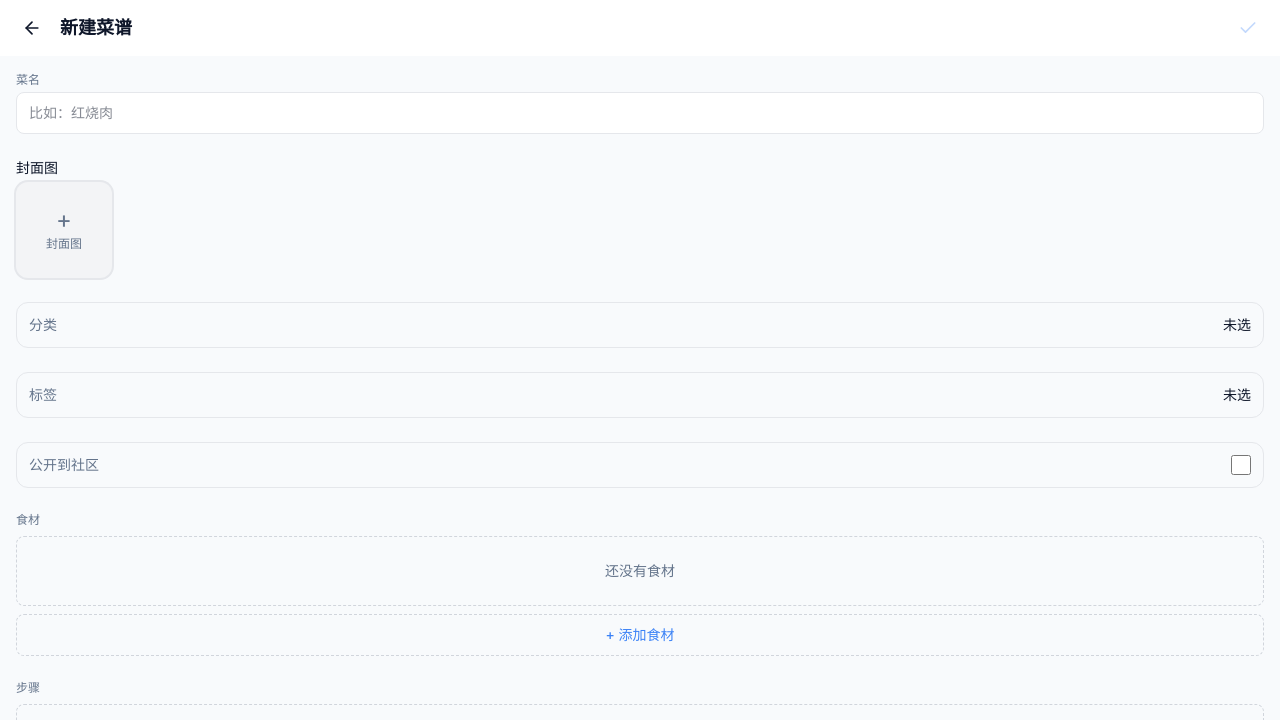
Test: RecipeEdit › 新建模式：菜名空时保存按钮不可点
expect the button with test id "save" is disabled: met, box [1232,12,1264,44]
Type "红烧肉" into the field with test id "name" at (640, 113), box [16,92,1264,134]
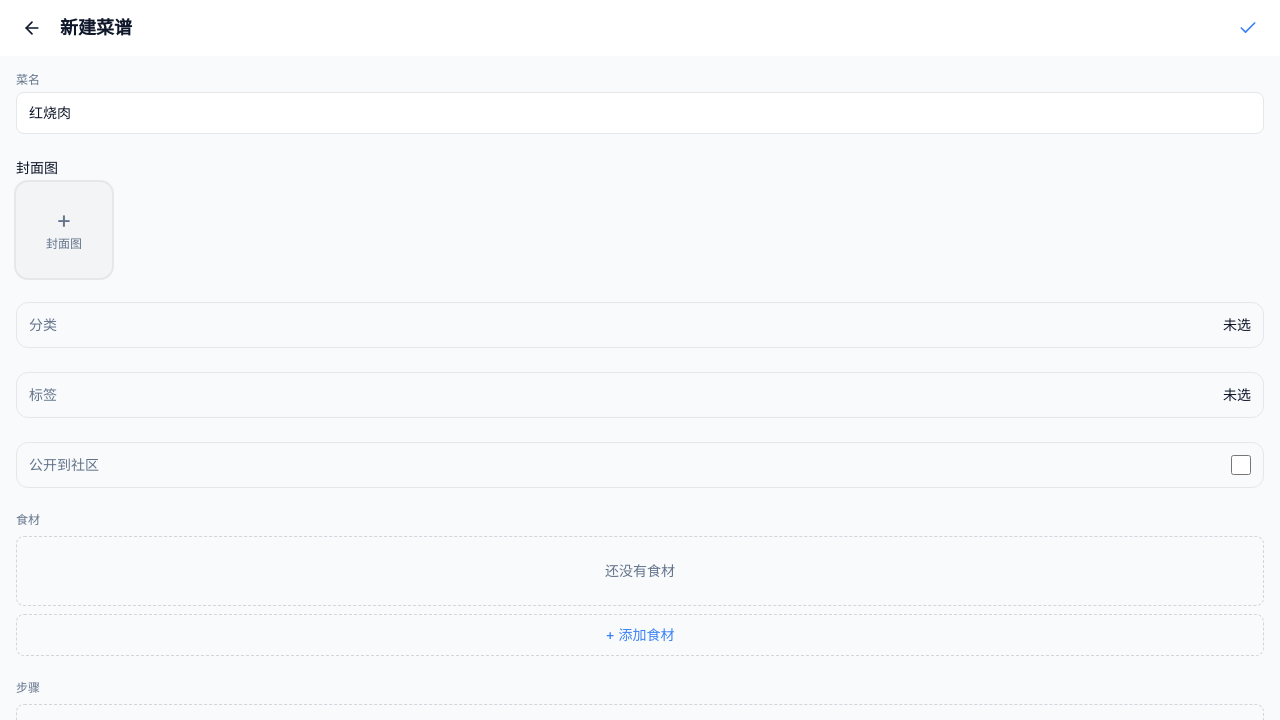
expect the button with test id "save" is enabled: met, box [1232,12,1264,44]
